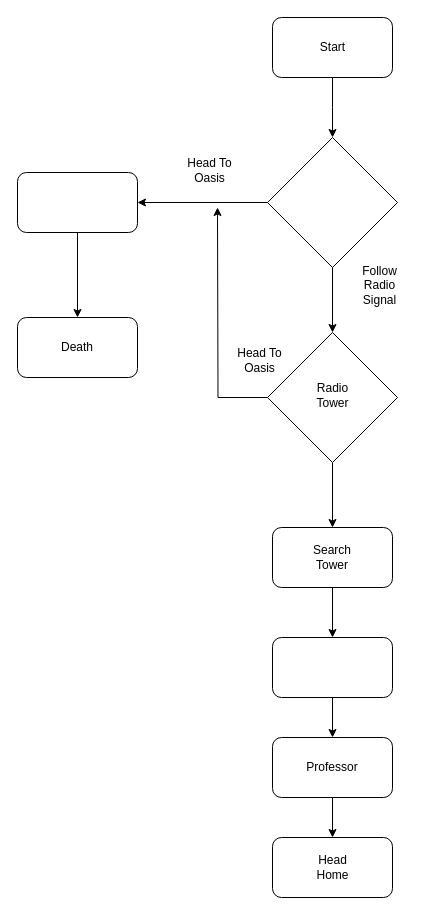
The diagram is 430 pixels wide and 915 high, and some of its shapes have lost their labels. The centre of each missing label's shape, as x and y in pixels:
Head West: the point at 332,667
Oasis: the point at 77,202
Wasteland: the point at 332,202
